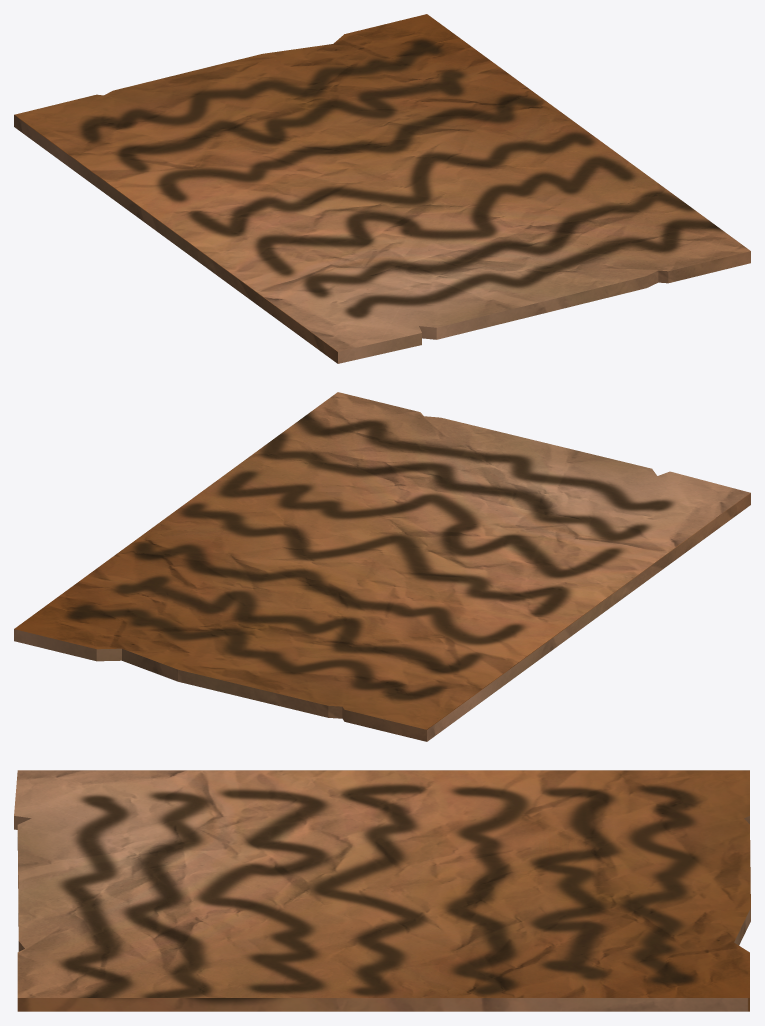
Rendered from Paper.fbx.
3 renders of one model, top to bottom at view 1: azimuth 30°, elevation 25°; view 2: azimuth 150°, elevation 25°; view 3: azimuth 270°, elevation 25°, orthographic. The views are drawn at different scales.
Visible parts, largest first — view 1: Plane; view 2: Plane; view 3: Plane.
Boxes of the visible parts, left/top/right/bottom form: Plane: left=14, top=14, right=750, bottom=363; Plane: left=14, top=392, right=750, bottom=741; Plane: left=14, top=770, right=750, bottom=1011.
Bounding box in the file's own units: 147 × 4.16 × 201.
